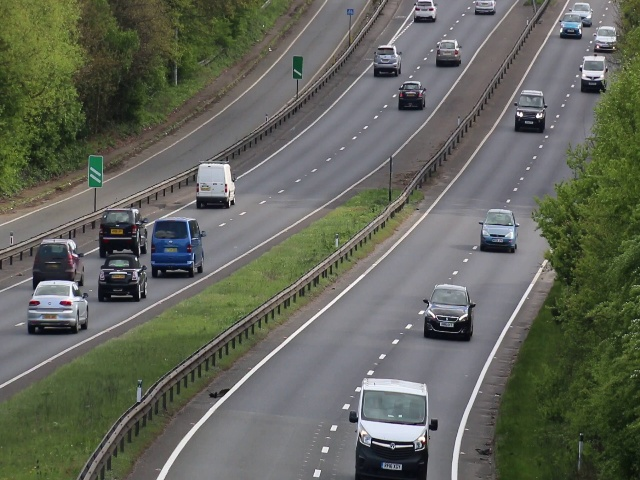car: (355, 381, 432, 477), (150, 216, 206, 279), (27, 280, 90, 334), (424, 286, 474, 340), (99, 256, 148, 305), (32, 238, 83, 282), (101, 210, 146, 255), (194, 161, 235, 208), (478, 208, 519, 254), (512, 87, 548, 133), (372, 44, 403, 77), (578, 57, 606, 92), (399, 79, 427, 111), (435, 39, 461, 68), (593, 26, 618, 51), (560, 12, 583, 39), (413, 1, 437, 23), (474, 1, 496, 14)
